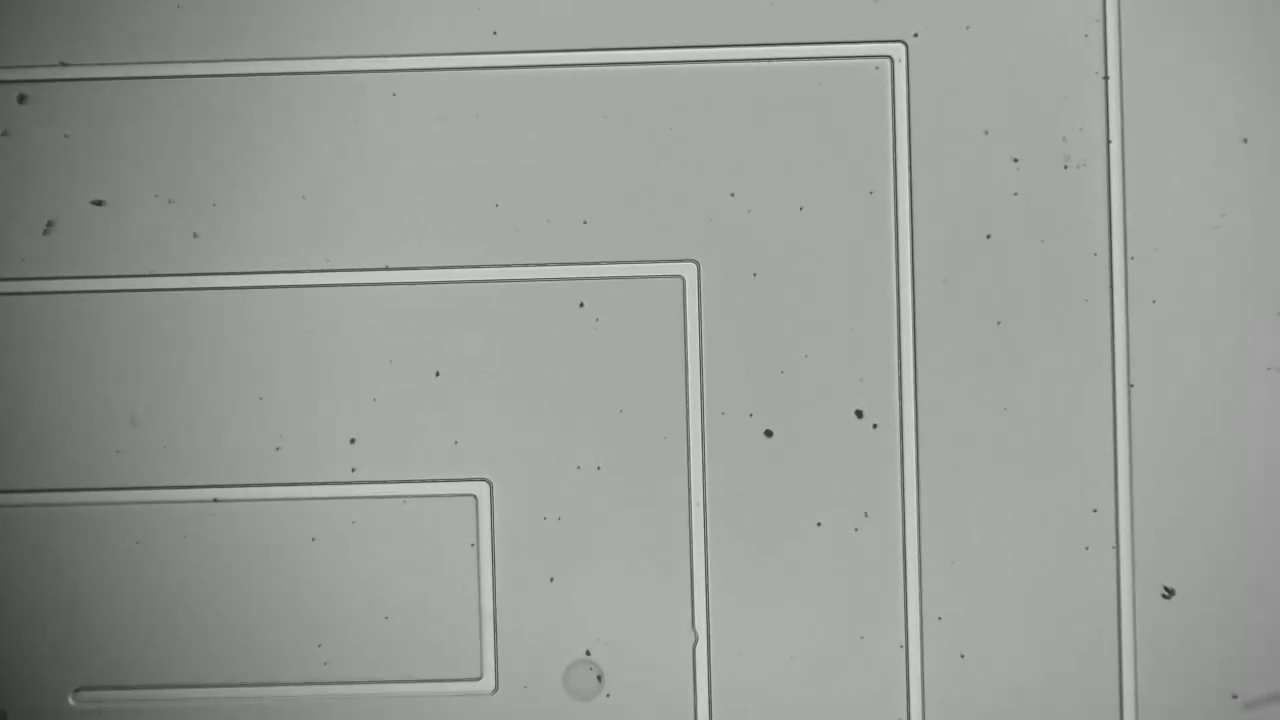edge_bite: (675, 619, 722, 654)
